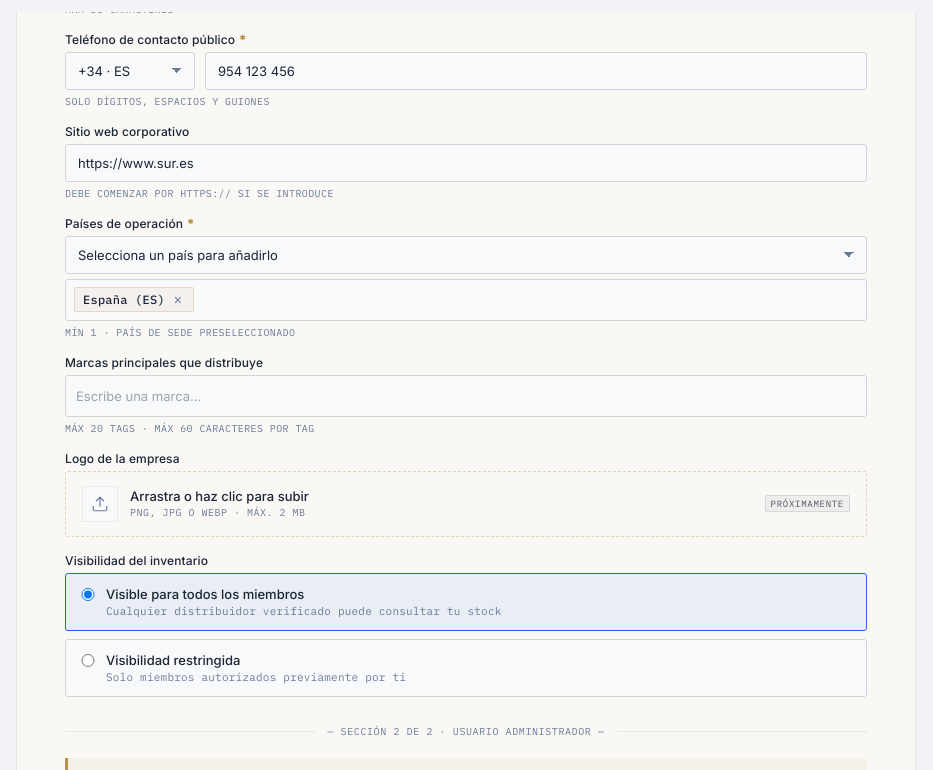
Test: REG-01 · etiquetas de países y de marcas › las marcas se añaden con Intro, sin repetir aunque cambien las mayúsculas, y se quitan
(page scrolled)
Type "SKF" into the field labelled "Marcas principales que distribuye" at (466, 396), box top-left (74, 385), bottom-right (858, 407)
Then press Enter
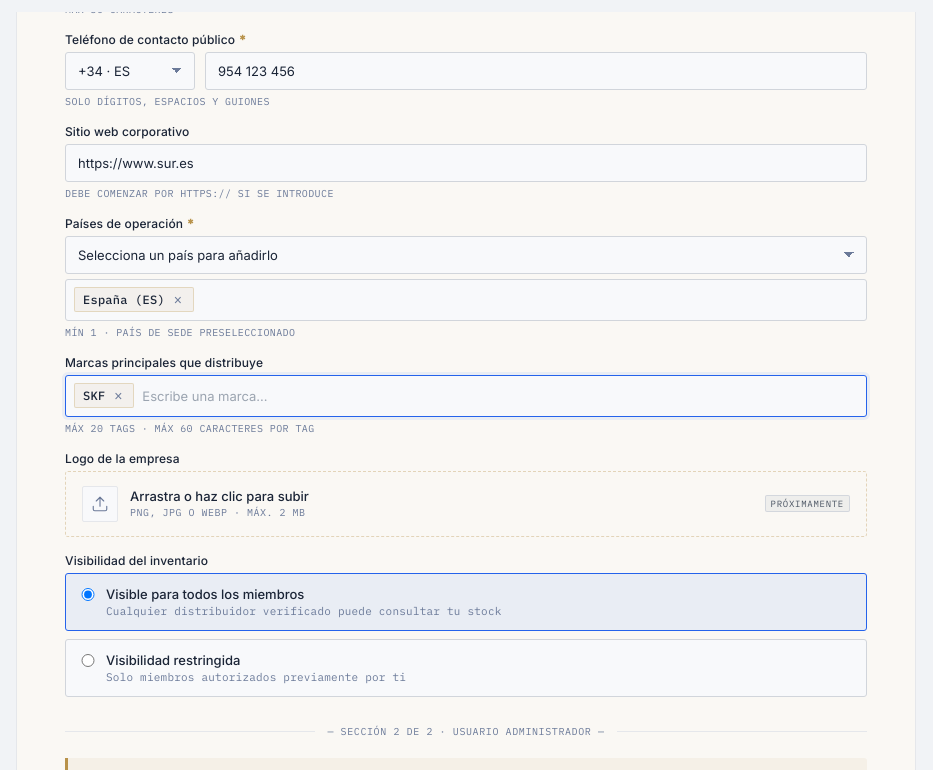
Type "skf" into the field labelled "Marcas principales que distribuye" at (499, 396), box top-left (140, 385), bottom-right (858, 407)
Then press Enter
Type "FAG" into the field labelled "Marcas principales que distribuye" at (499, 396), box top-left (140, 385), bottom-right (858, 407)
Then press Enter
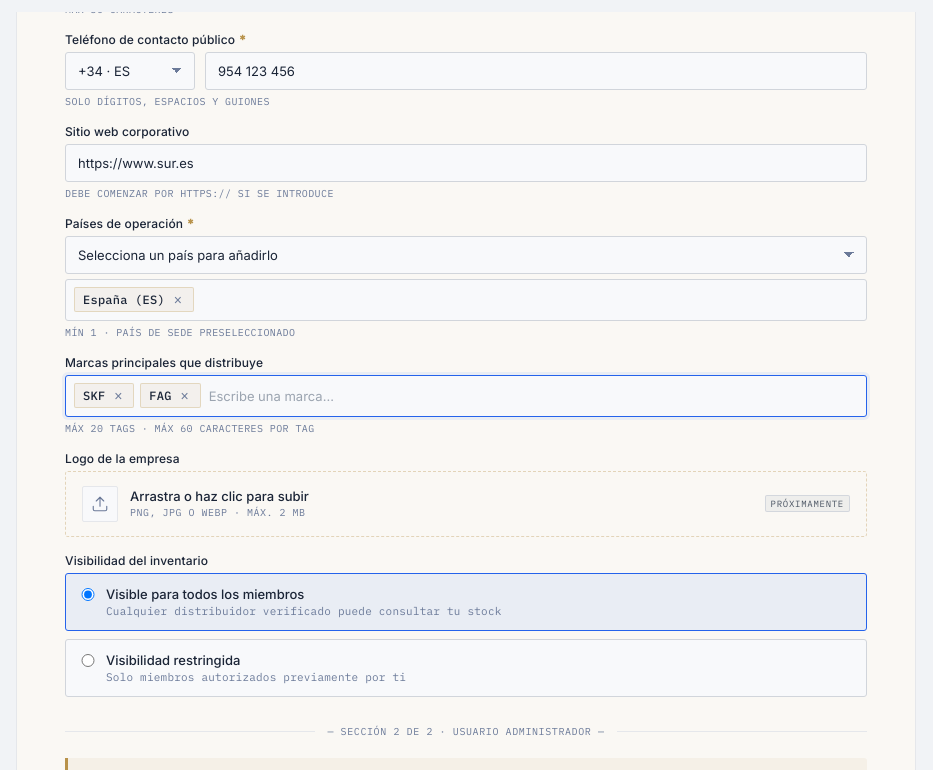
Expected: the text "SKF" is shown once, top-left (74, 383), bottom-right (134, 408)
Result: the text "FAG" is shown at top-left (149, 388), bottom-right (172, 403)
Click the button named "Eliminar SKF" at (118, 396), box top-left (111, 389), bottom-right (125, 403)
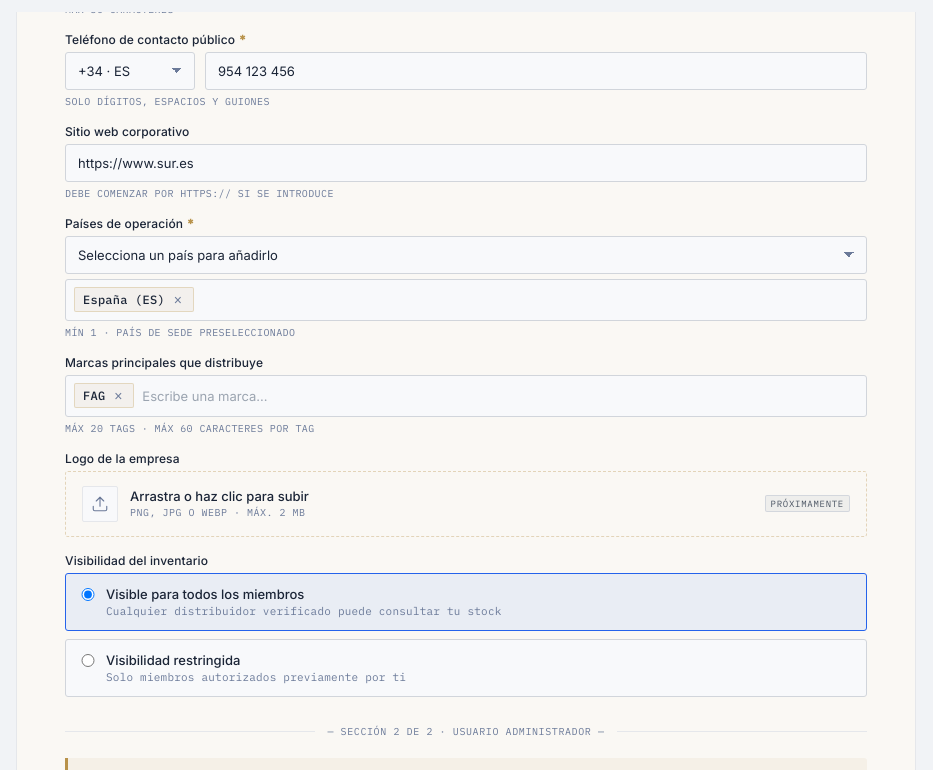
Result: the text "FAG" is shown at top-left (83, 388), bottom-right (105, 403)
Result: the text "SKF" is gone
